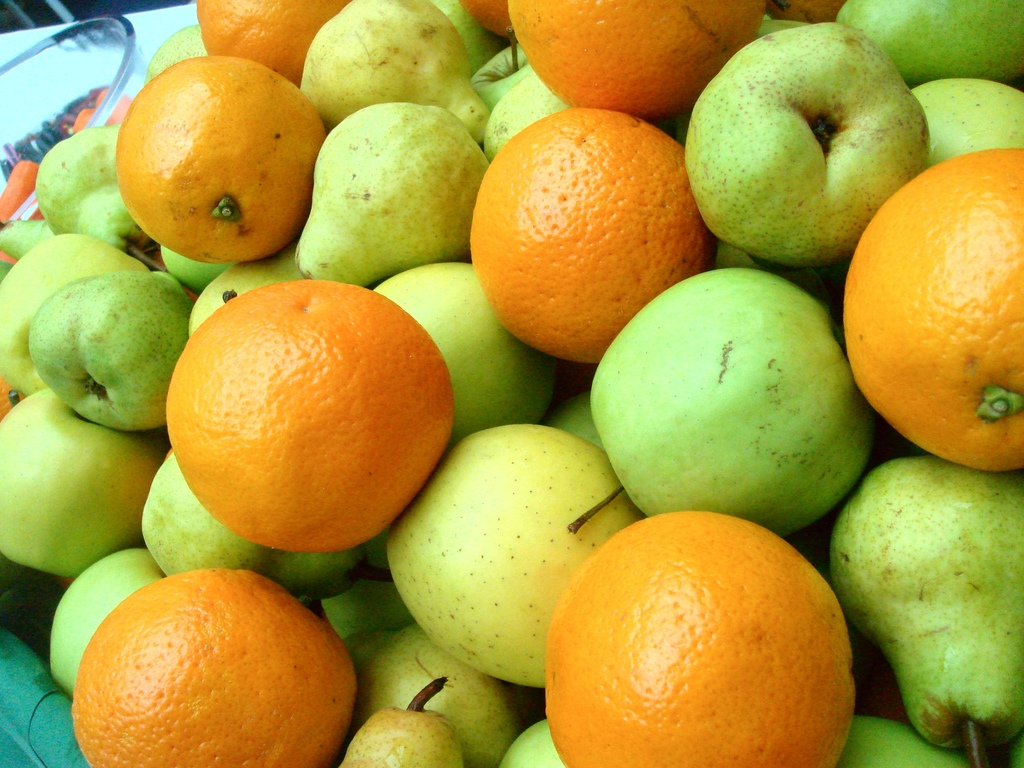Ripe: (164, 275, 457, 548), (547, 514, 849, 760), (460, 104, 702, 371), (71, 568, 369, 767), (836, 148, 1023, 458), (117, 56, 317, 262), (506, 0, 768, 116)
